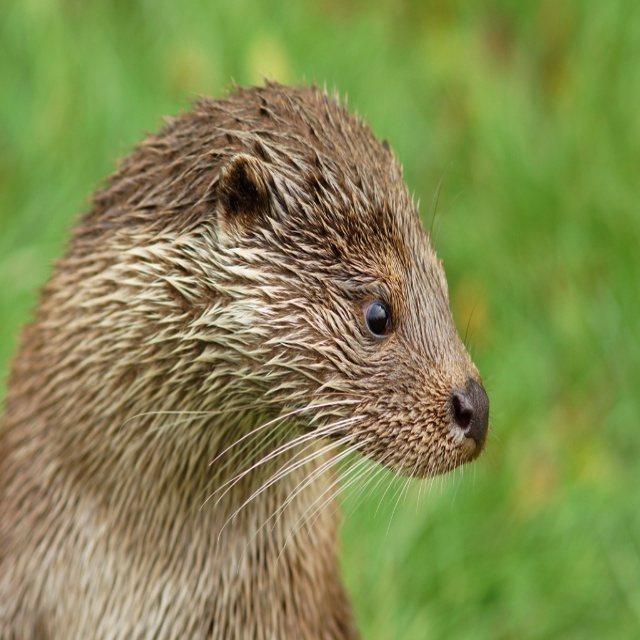Otter: (13, 68, 510, 640)
